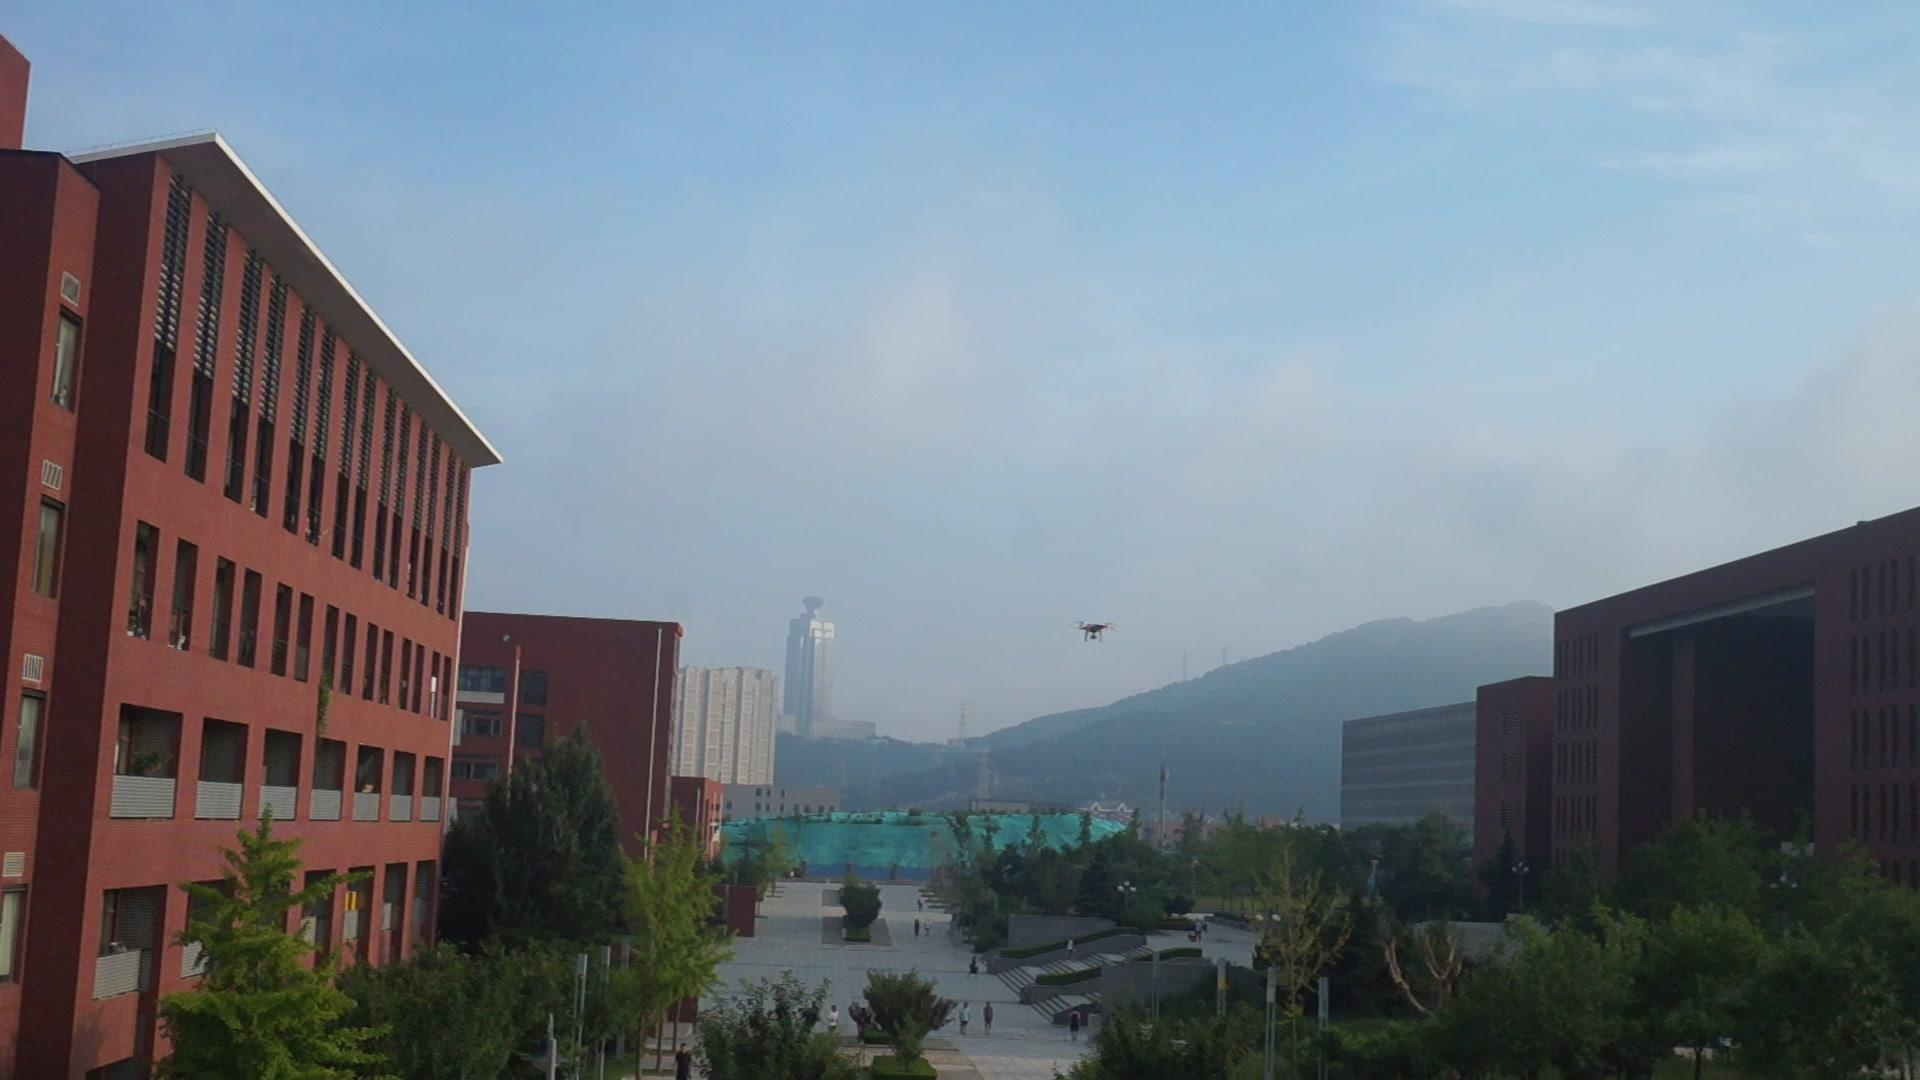UAV: (1071, 620, 1121, 644)
